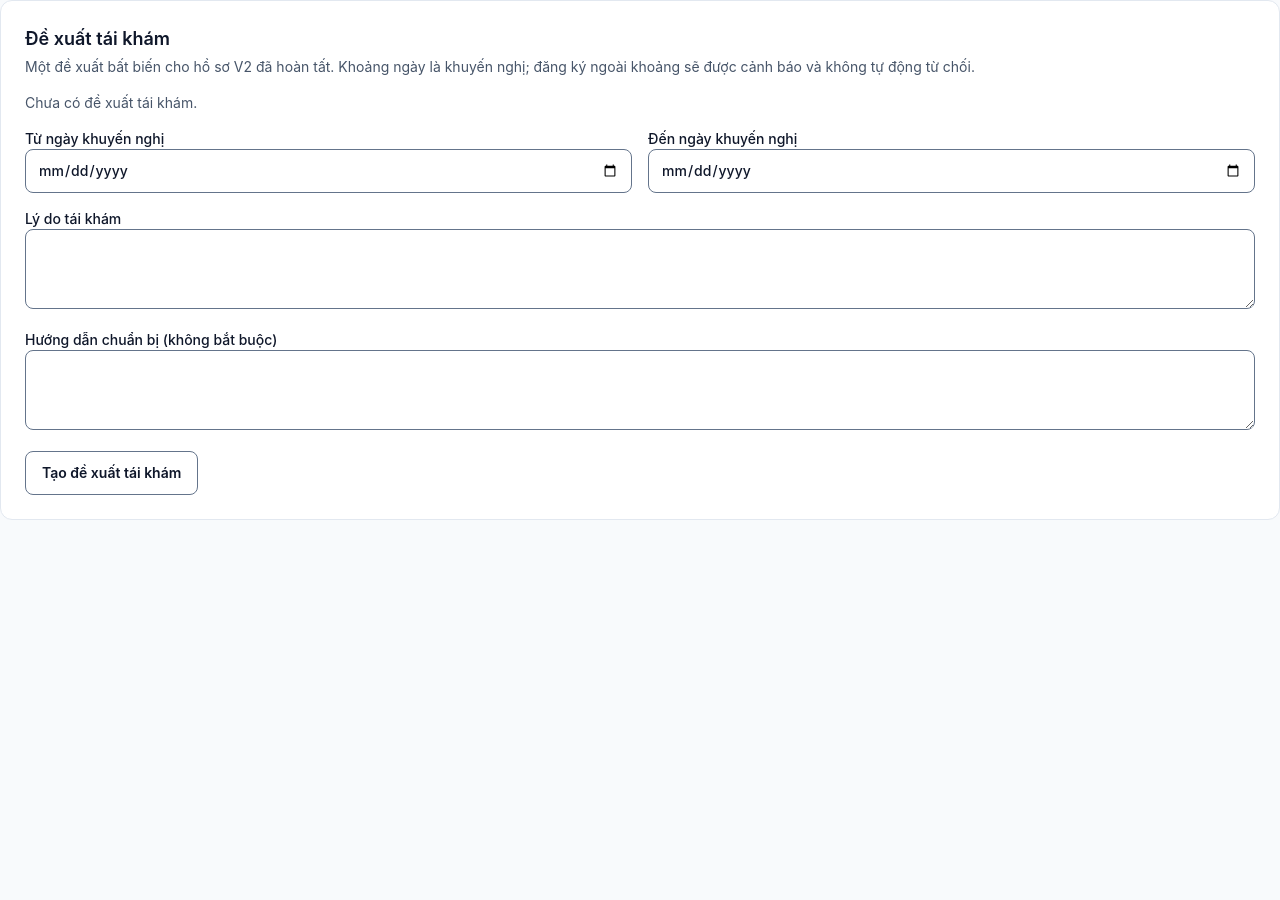
it: V2 follow-up recommendation panel › creates a recommendation and retries an uncertain response with the same command key
Check: the text "Chưa có đề xuất tái khám." is shown, box [25,94,197,111]
Type "2026-11-01" into the date field labelled "Từ ngày khuyến nghị" at (328, 171), box [25,149,632,193]
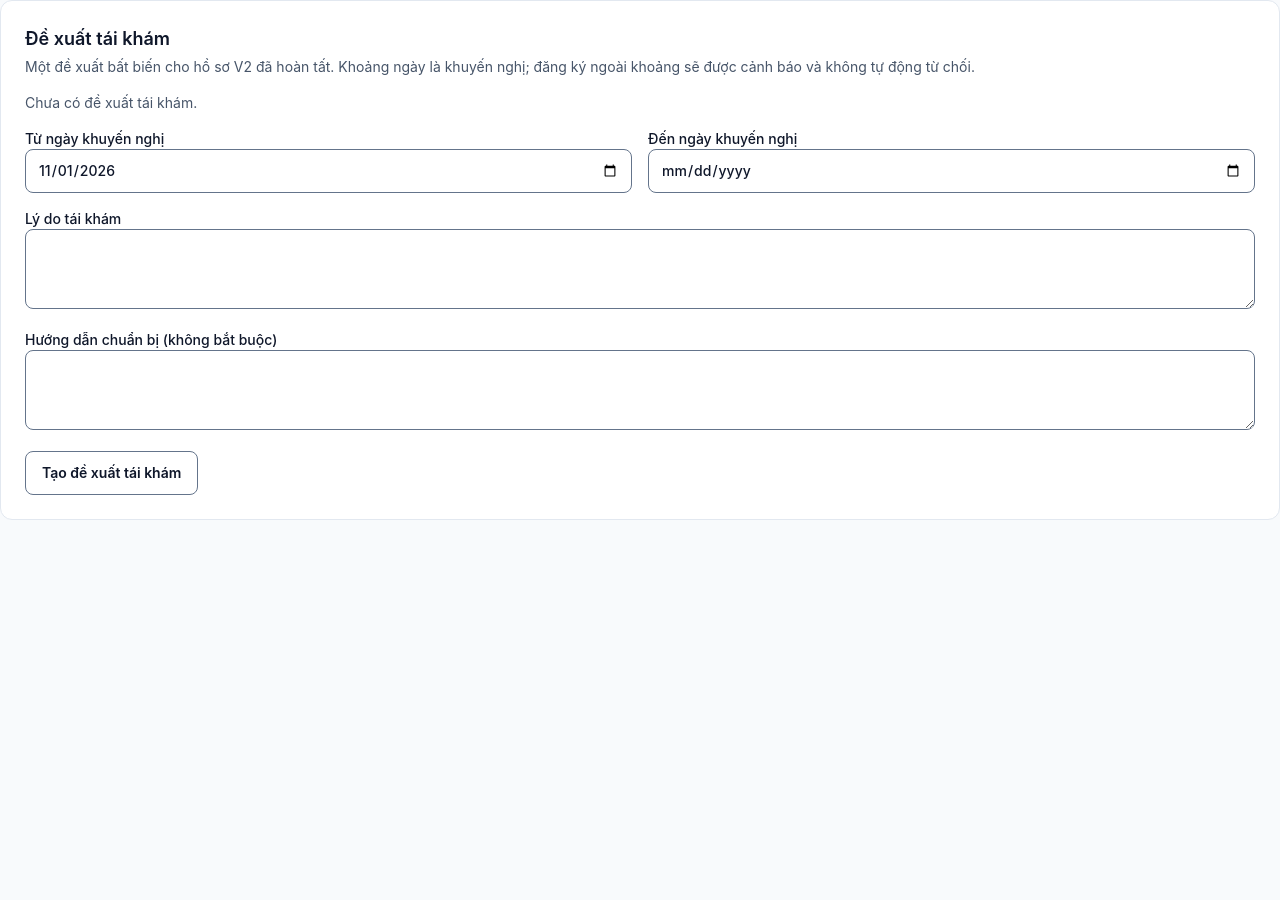
Type "2026-11-30" into the date field labelled "Đến ngày khuyến nghị" at (952, 171), box [648,149,1255,193]
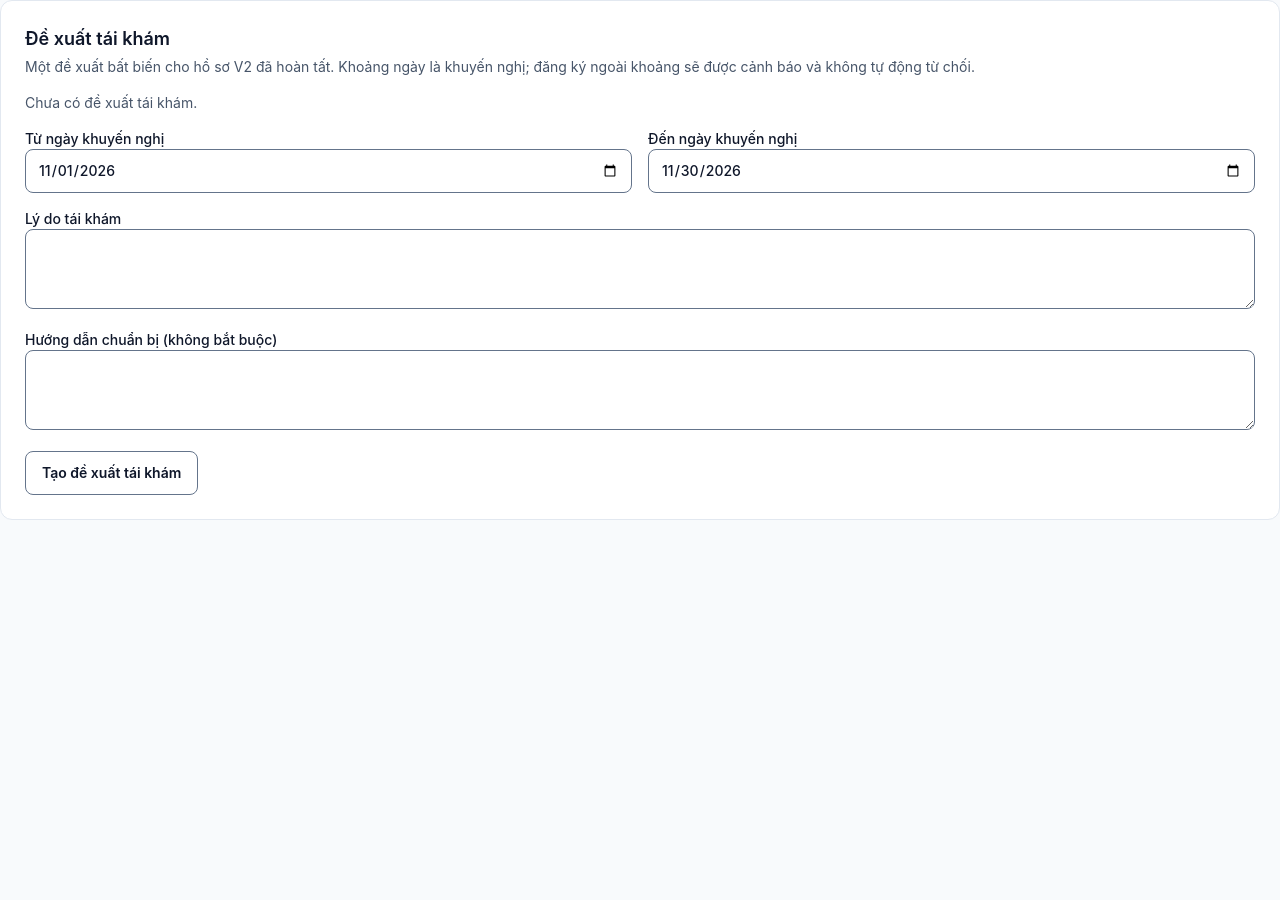
Type "Review symptoms after treatment." into the text box labelled "Lý do tái khám" at (640, 269), box [25,229,1255,309]
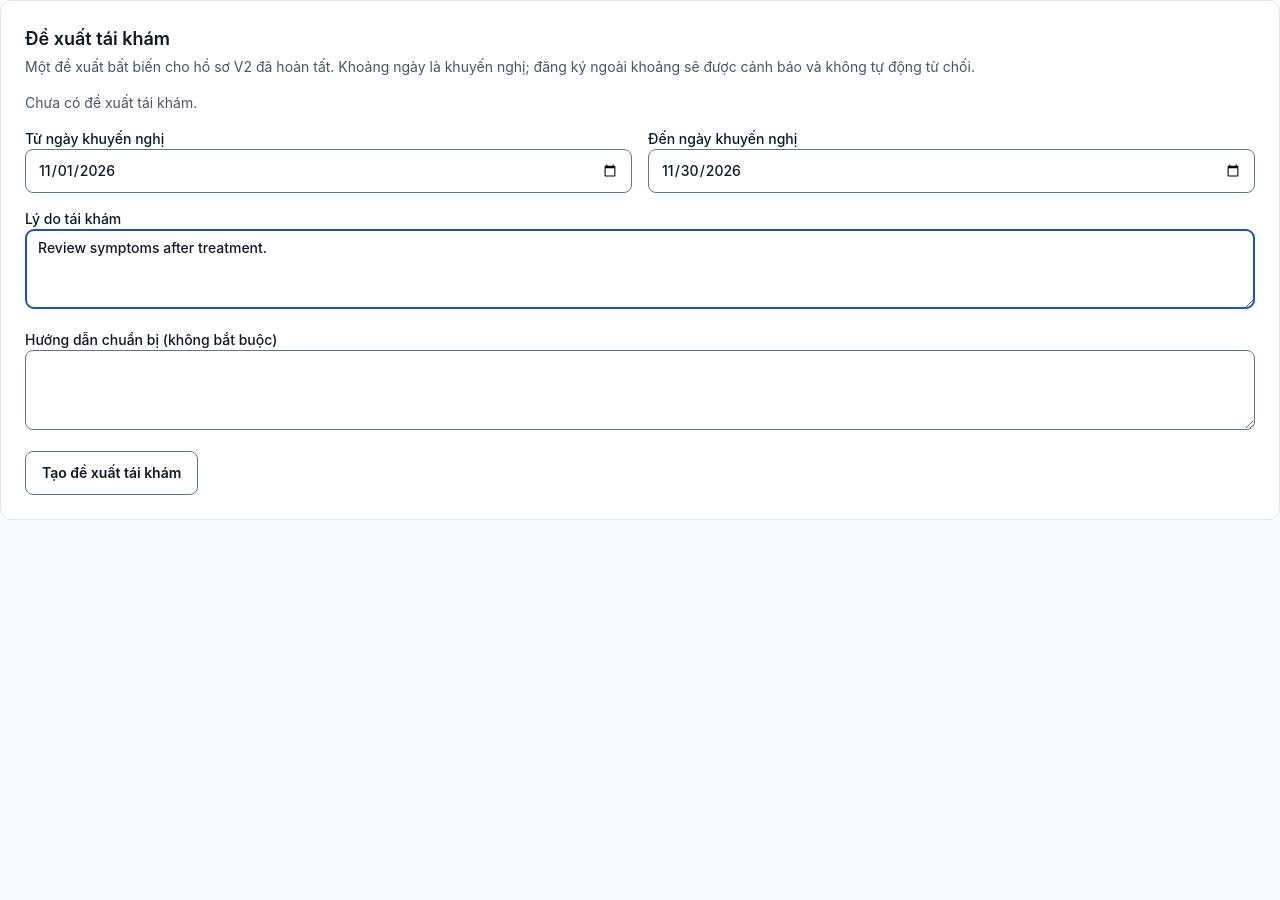
Click the button "Tạo đề xuất tái khám" at (112, 473), box [25,451,198,495]
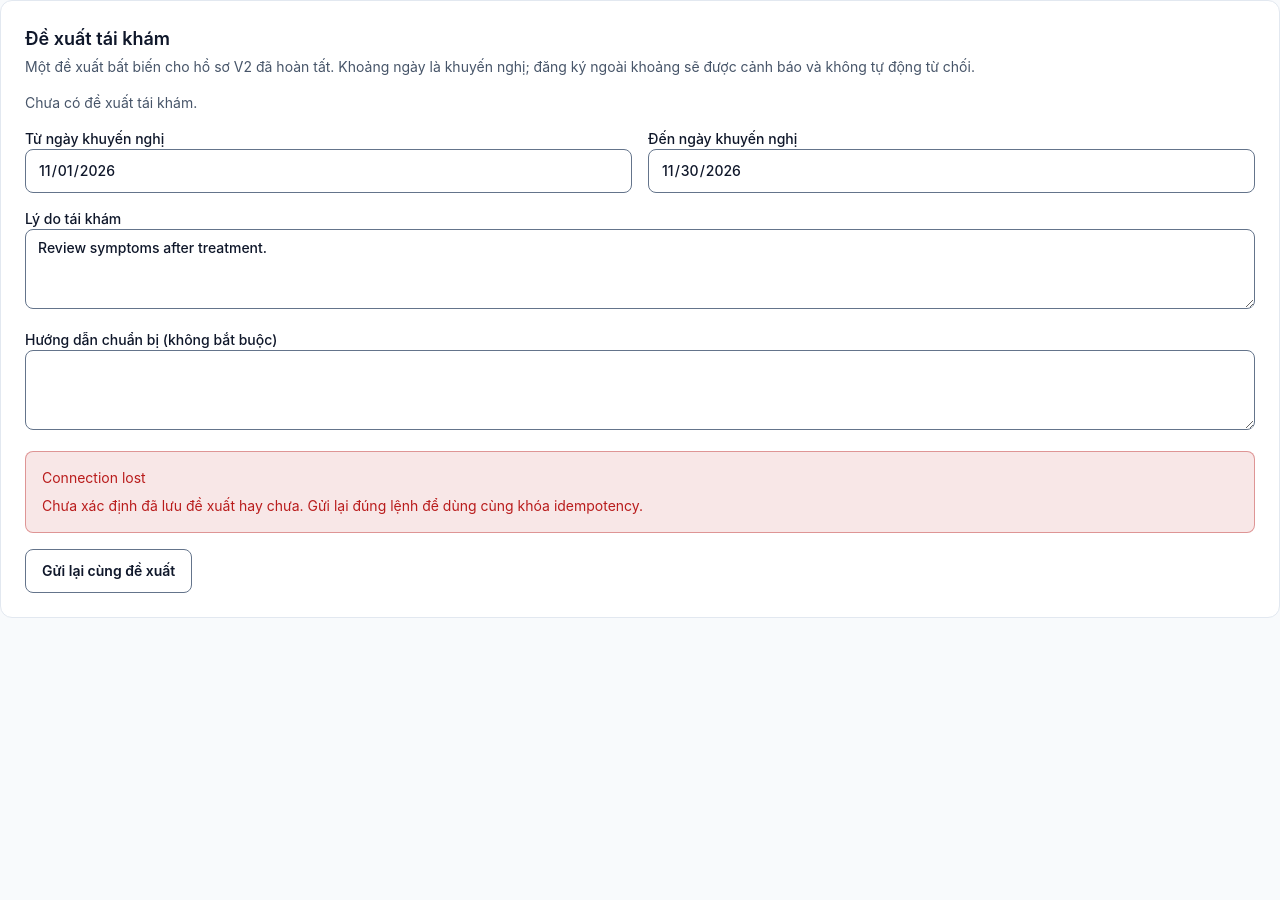
Check: the text "Chưa xác định đã lưu đề xuất" is shown, box [42,497,643,514]
Click the button "Gửi lại cùng đề xuất" at (109, 571), box [25,549,192,593]
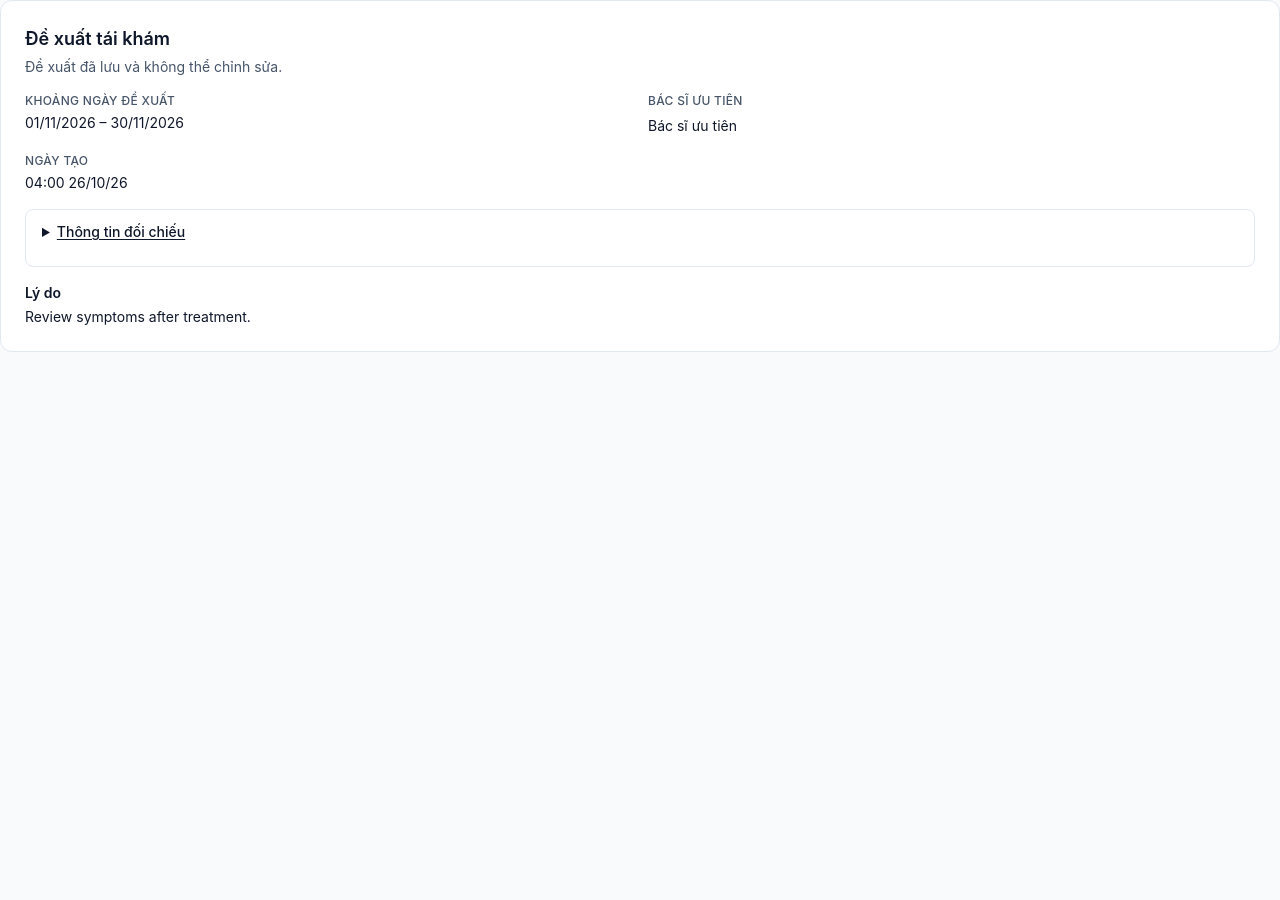
Check: the text "Review symptoms after treatment." is shown, box [25,308,251,325]
